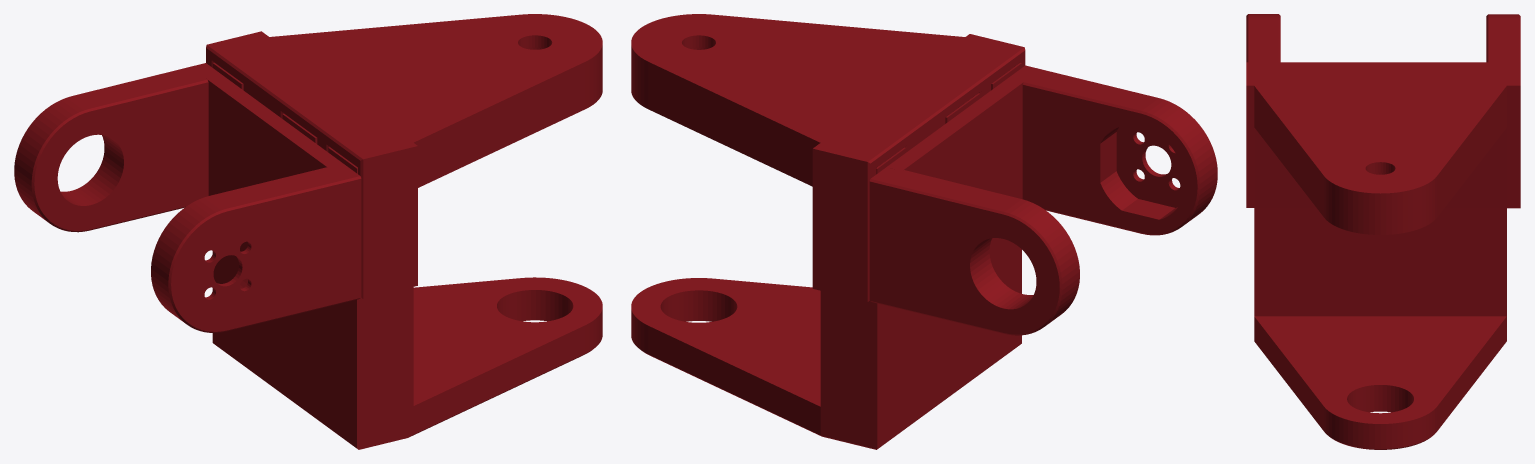
File: palm_link11.dae
3 renders of one model, left to right at view 1: azimuth 30°, elevation 25°; view 2: azimuth 150°, elevation 25°; view 3: azimuth 270°, elevation 25°, orthographic. The views are drawn at different scales.
Visible parts, largest first — view 1: palm_link11.001; view 2: palm_link11.001; view 3: palm_link11.001.
Part boxes in pixels (x1=…): palm_link11.001: x1=14, y1=14, x2=602, y2=449; palm_link11.001: x1=631, y1=14, x2=1217, y2=449; palm_link11.001: x1=1246, y1=14, x2=1520, y2=449.
Size of the model in its own units: 86.06 by 46.6 by 48.25.
